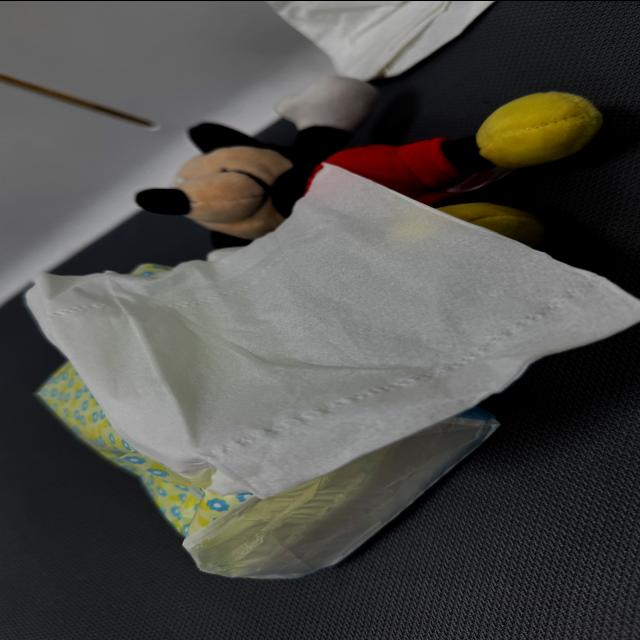mickey: (138, 77, 601, 247)
tissue: (27, 165, 639, 497), (36, 361, 499, 577), (184, 407, 499, 577), (36, 361, 253, 534), (268, 1, 494, 79)
